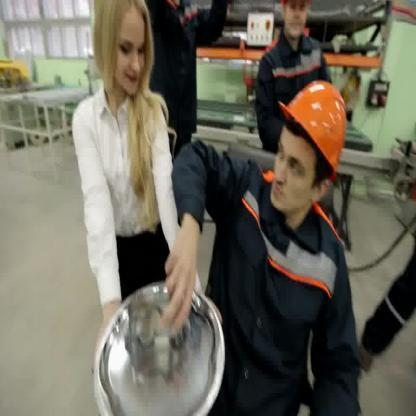goggles: (121, 284, 192, 358)
helmet: (278, 79, 348, 181)
vest: (166, 127, 372, 415), (148, 0, 232, 124), (254, 34, 336, 139)
